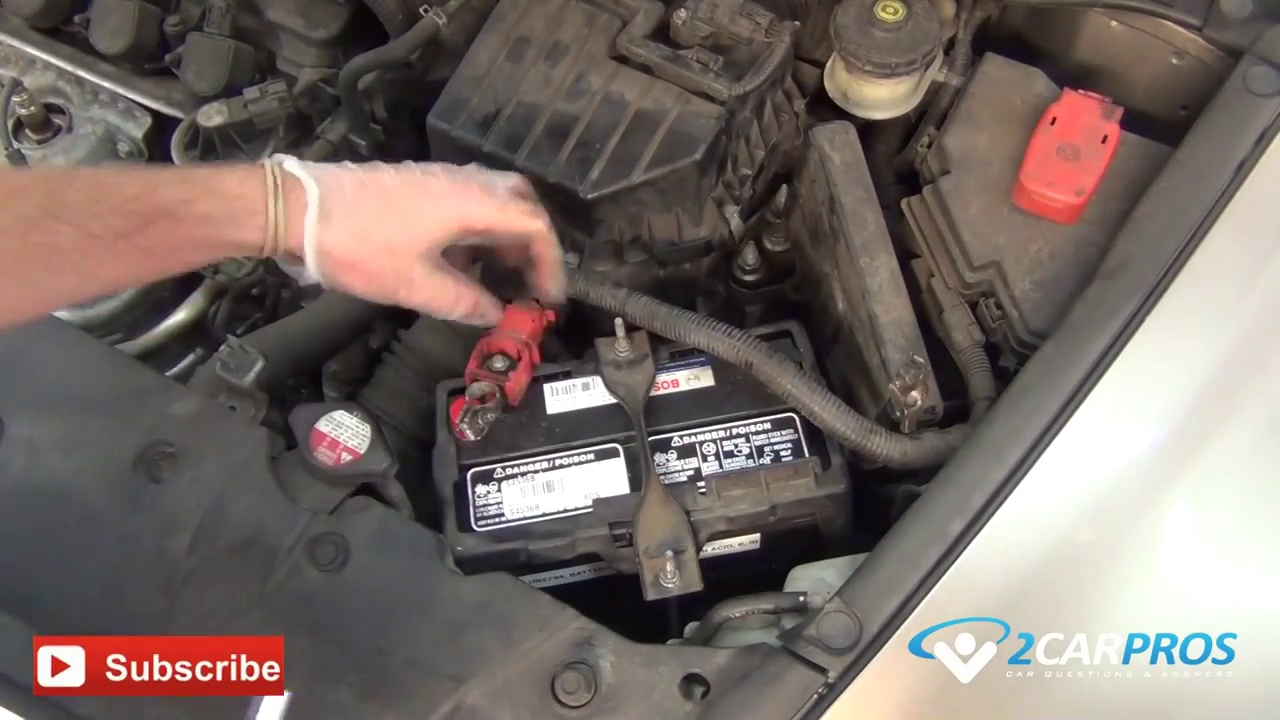battery: (441, 317, 812, 528)
pos_connected: (441, 312, 545, 470)
pos_touched: (411, 172, 565, 451)
